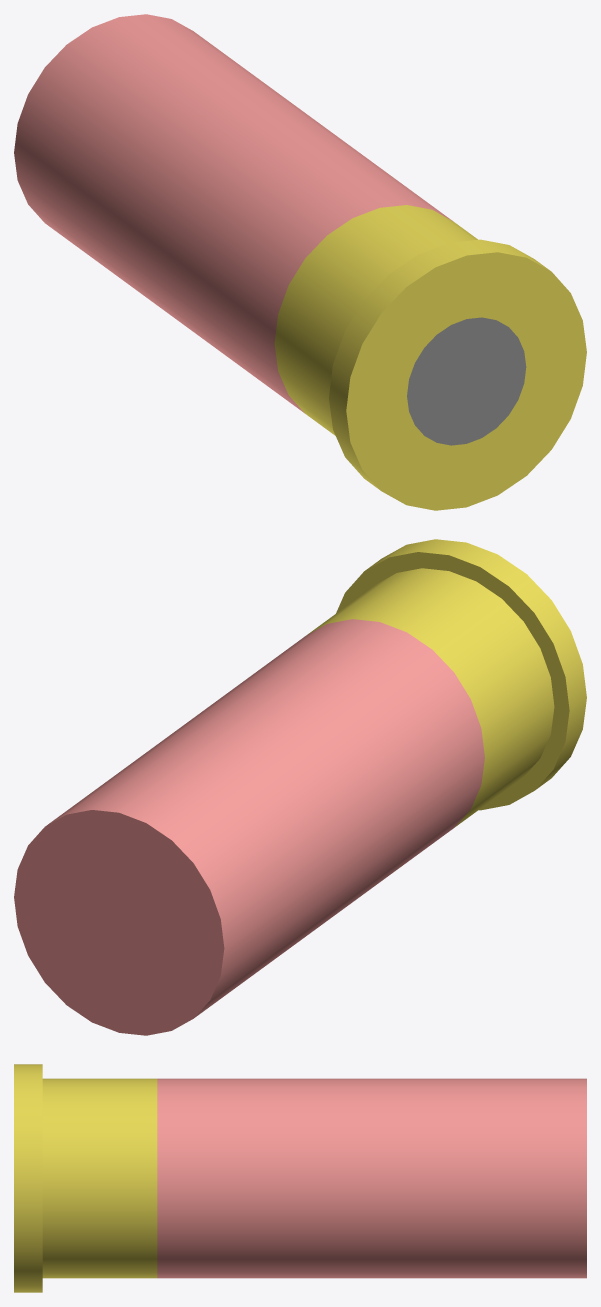
File: ammo_shotgun.glb
The picture shows the model from 3 angles, top to bottom: view 1: azimuth 30°, elevation 25°; view 2: azimuth 150°, elevation 25°; view 3: azimuth 270°, elevation 25°; orthographic projection. The views are drawn at different scales.
Visible parts, largest first — view 1: ammo_shotgun; view 2: ammo_shotgun; view 3: ammo_shotgun.
Boxes of the visible parts, x1,y1,x2,y2 form: ammo_shotgun: (14, 14, 586, 510); ammo_shotgun: (14, 539, 586, 1035); ammo_shotgun: (14, 1064, 586, 1292).
Bounding box in the file's own units: 0.144 × 0.144 × 0.36.
